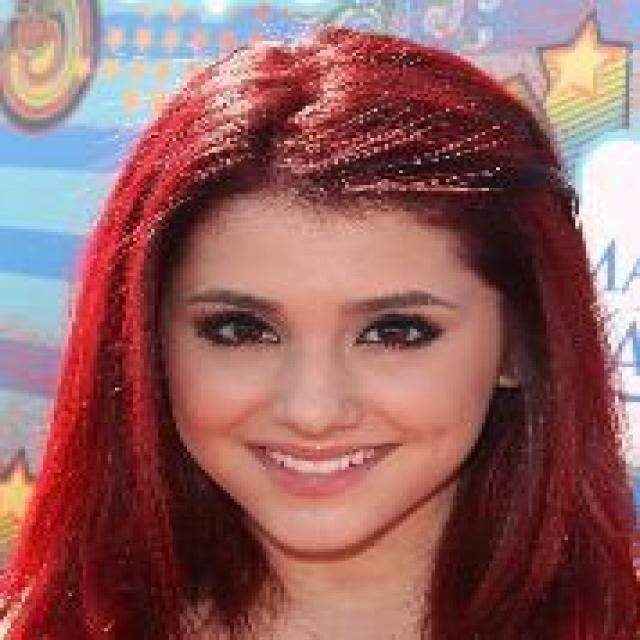bareface: (156, 68, 538, 557)
